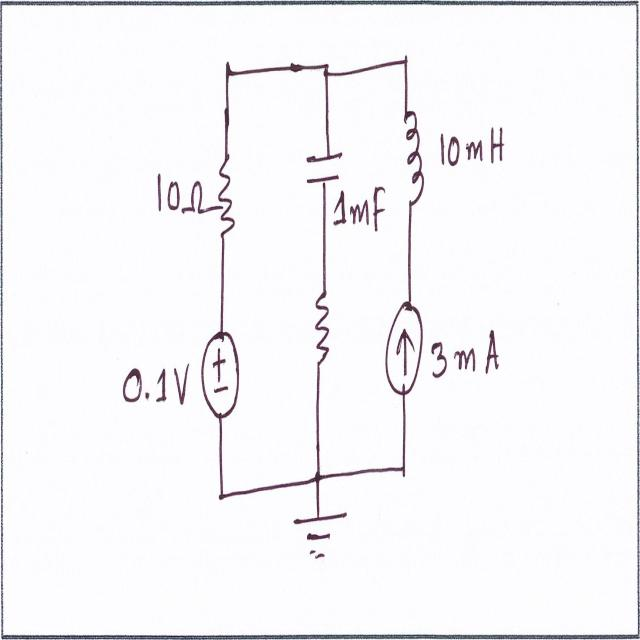capacitor: (301, 147, 346, 195)
current_source: (384, 296, 427, 410)
ground: (292, 508, 351, 568)
inductor: (402, 101, 430, 217)
resistor: (312, 282, 334, 386), (216, 147, 239, 244)
voltage_source: (199, 325, 241, 427)
